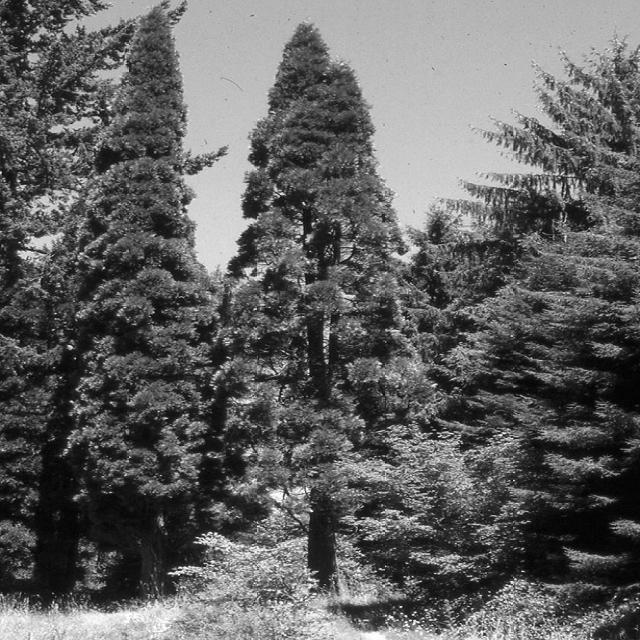Calocedrus decurrens: (212, 24, 416, 598), (59, 4, 218, 598)
